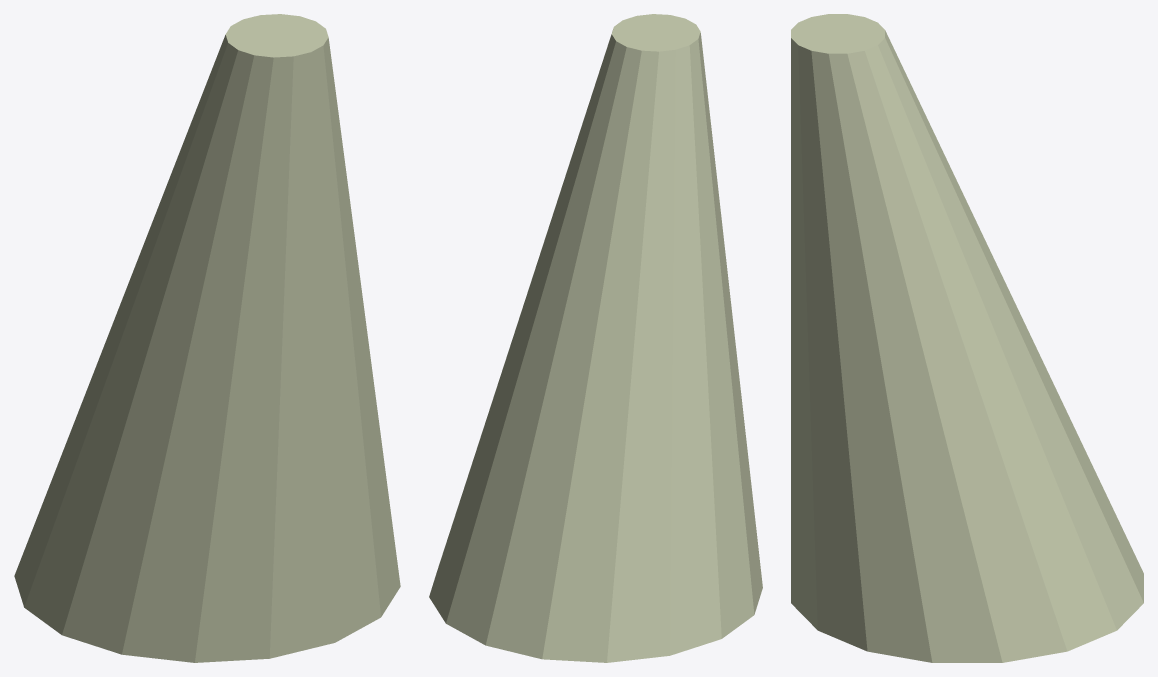
The model's file is rotanev_nose_cone_s0p5_2_collider.obj.
3 renders of one model, left to right at view 1: azimuth 30°, elevation 25°; view 2: azimuth 150°, elevation 25°; view 3: azimuth 270°, elevation 25°, orthographic. The views are drawn at different scales.
Visible parts, largest first — view 1: rotanev_nose_cone_s0p5_2_collider; view 2: rotanev_nose_cone_s0p5_2_collider; view 3: rotanev_nose_cone_s0p5_2_collider.
Part boxes in pixels (x1=…): rotanev_nose_cone_s0p5_2_collider: x1=14, y1=14, x2=400, y2=662; rotanev_nose_cone_s0p5_2_collider: x1=429, y1=14, x2=762, y2=662; rotanev_nose_cone_s0p5_2_collider: x1=791, y1=14, x2=1143, y2=662.
Size of the model in its own units: 0.9375 by 1.62 by 0.9375.
